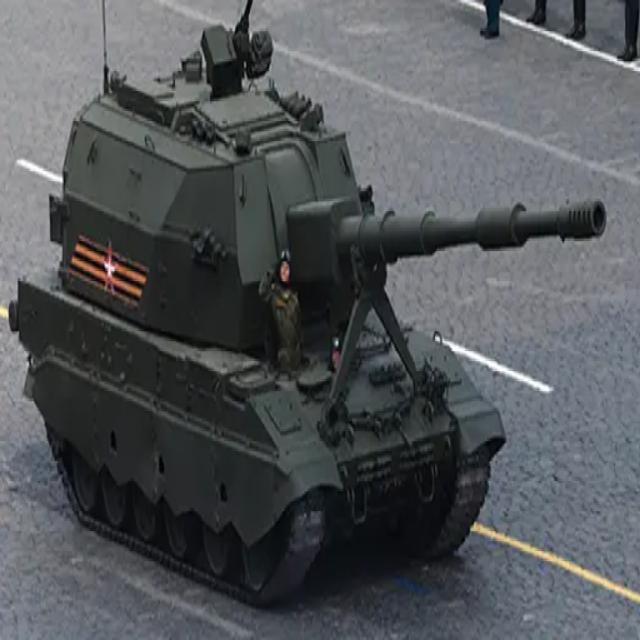ART: (10, 56, 606, 604)
